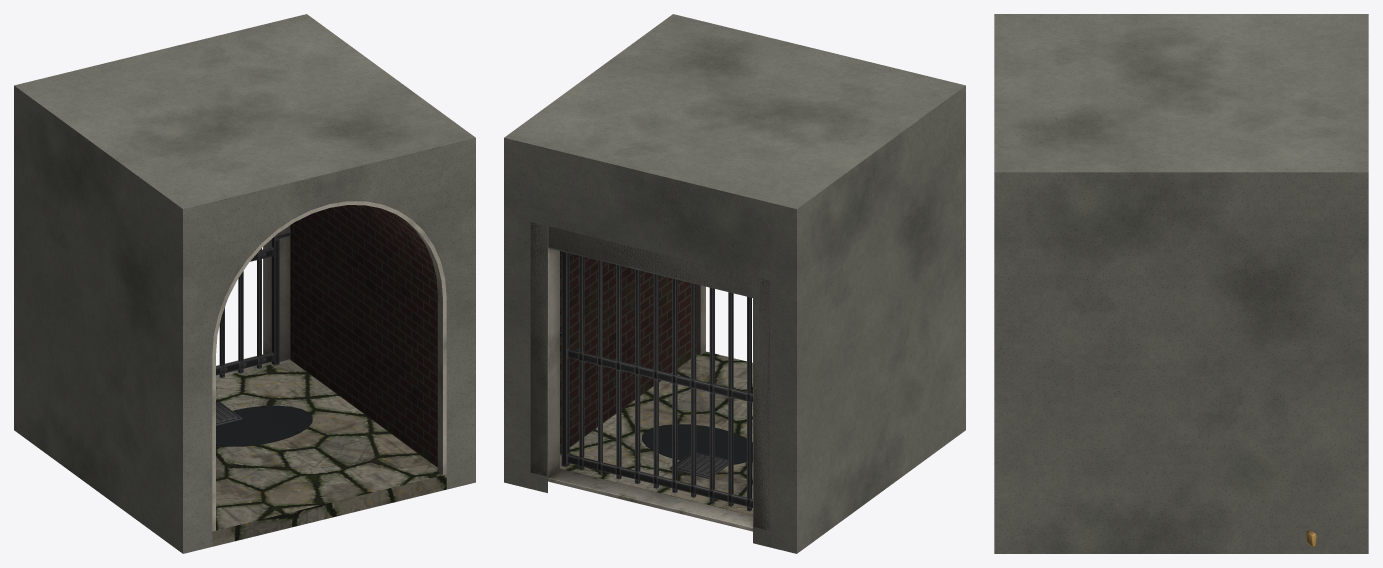
Rendered from TunnelDeadEnd.fbx.
The picture shows the model from 3 angles, left to right: view 1: azimuth 30°, elevation 25°; view 2: azimuth 150°, elevation 25°; view 3: azimuth 270°, elevation 25°; orthographic projection. The views are drawn at different scales.
Visible parts, largest first — view 1: TunnelDeadEnd_Wall, TunnelDeadEnd_Main, TunnelDeadEnd_Floor, TunnelDeadEnd_Grate0; view 2: TunnelDeadEnd_Wall, TunnelDeadEnd_Main, TunnelDeadEnd_Grate0, TunnelDeadEnd_Floor; view 3: TunnelDeadEnd_Wall.
Boxes of the visible parts, x1=… form: TunnelDeadEnd_Wall: x1=14, y1=14, x2=475, y2=553; TunnelDeadEnd_Main: x1=212, y1=201, x2=446, y2=531; TunnelDeadEnd_Floor: x1=212, y1=360, x2=446, y2=546; TunnelDeadEnd_Grate0: x1=216, y1=231, x2=290, y2=377; TunnelDeadEnd_Wall: x1=504, y1=14, x2=965, y2=553; TunnelDeadEnd_Main: x1=530, y1=222, x2=769, y2=531; TunnelDeadEnd_Grate0: x1=560, y1=251, x2=752, y2=511; TunnelDeadEnd_Floor: x1=548, y1=351, x2=752, y2=515; TunnelDeadEnd_Wall: x1=994, y1=14, x2=1368, y2=553.
Size of the model in its own units: 853 by 900 by 800.
